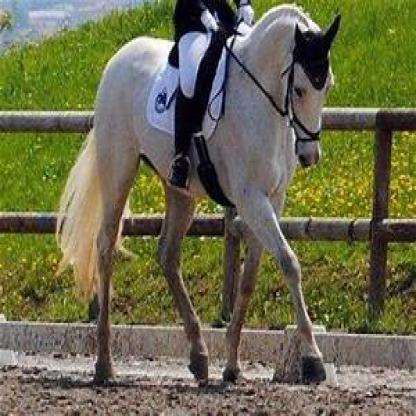horse: (56, 6, 346, 388)
